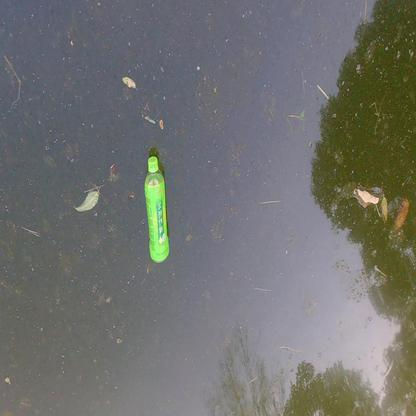plastic bottle: (144, 154, 171, 263)
